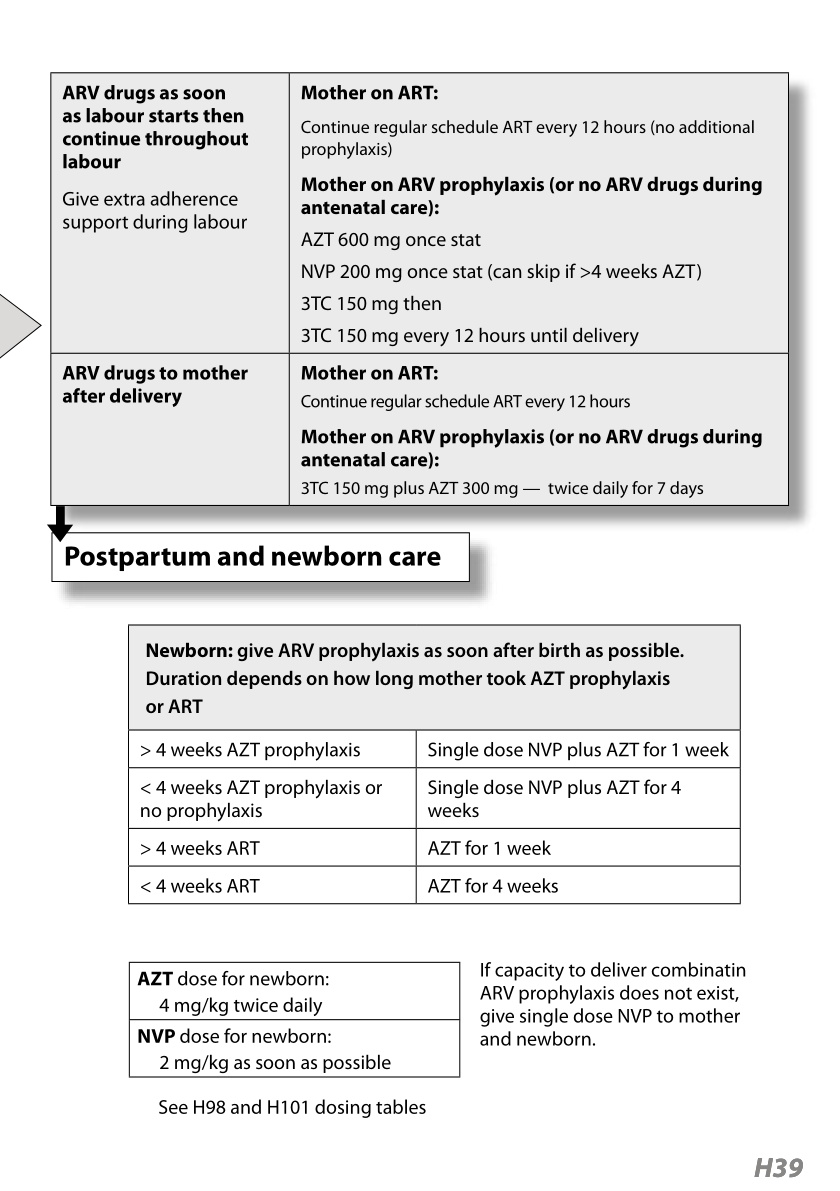full_lined: (48, 70, 790, 507), (127, 960, 461, 1079)
merged_cells: (126, 623, 742, 906)
